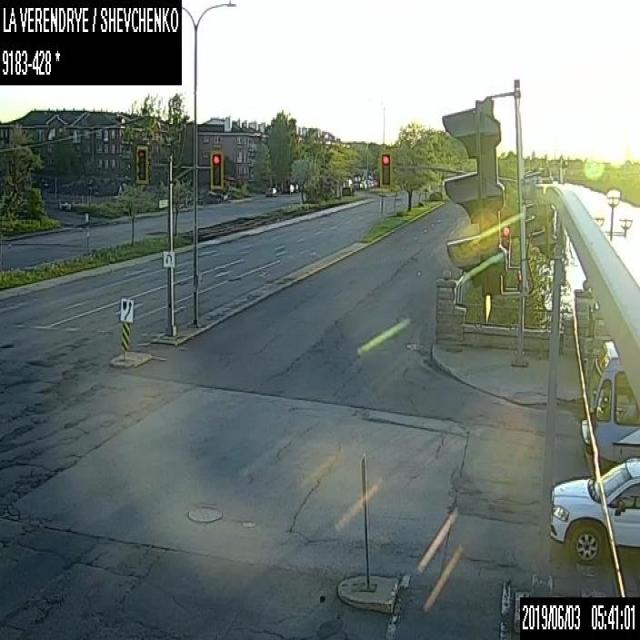bus: (580, 338, 639, 470)
vehicle: (551, 456, 639, 568), (265, 185, 276, 196), (284, 183, 294, 193)
